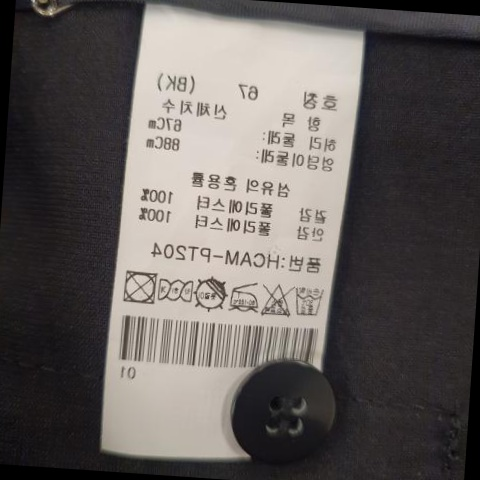DN_bleach: (258, 277, 292, 320)
DN_tumble_dry: (119, 267, 157, 304)
hand_wash: (291, 282, 324, 320)
iron_low: (228, 277, 260, 312)
line_dry_in_shade: (190, 272, 230, 311)
wring: (154, 274, 193, 306)
